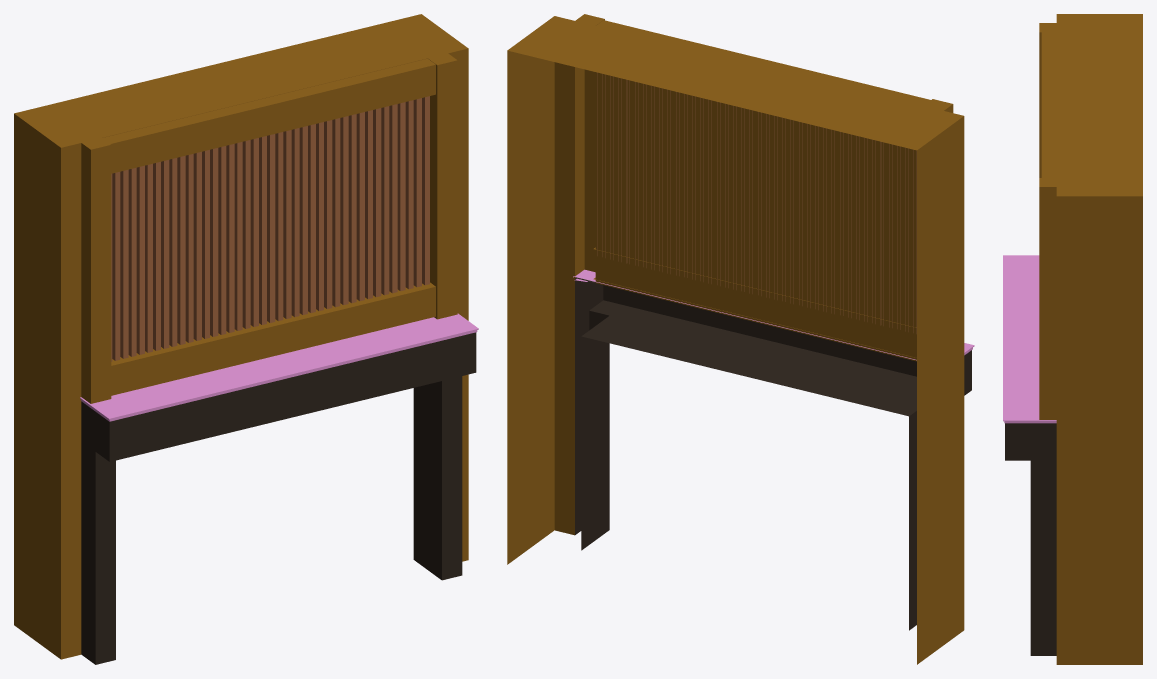
Rendered from Hamamonoyo.FBX.
3 renders of one model, left to right at view 1: azimuth 30°, elevation 25°; view 2: azimuth 150°, elevation 25°; view 3: azimuth 270°, elevation 25°, orthographic. The views are drawn at different scales.
Parts seen in each view (by area): view 1: Hamamonoyo; view 2: Hamamonoyo; view 3: Hamamonoyo.
Boxes of the visible parts, x1=… form: Hamamonoyo: x1=14, y1=14, x2=478, y2=664; Hamamonoyo: x1=507, y1=14, x2=974, y2=664; Hamamonoyo: x1=1003, y1=14, x2=1142, y2=664.
Bounding box in the file's own units: 500 × 600 × 162.
